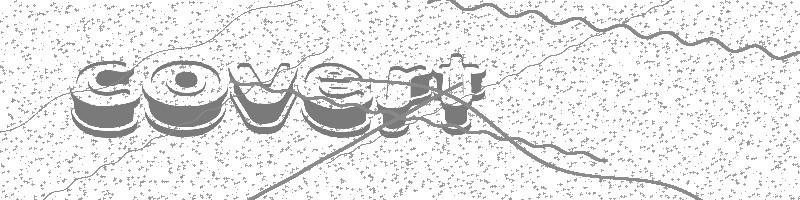c: (63, 53, 145, 142)
e: (298, 59, 375, 140)
o: (140, 58, 231, 142)
r: (381, 56, 438, 142)
t: (437, 49, 484, 140)
v: (224, 55, 298, 137)
